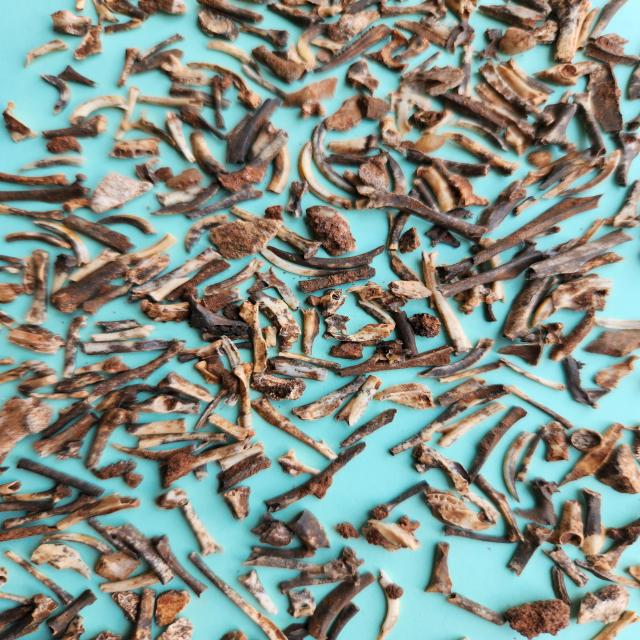fossil: (433, 191, 606, 285), (57, 336, 189, 417), (387, 382, 513, 458), (188, 550, 290, 640), (499, 234, 580, 344), (355, 183, 491, 244), (262, 440, 368, 516), (419, 248, 479, 358), (249, 394, 341, 462), (522, 227, 638, 280), (126, 245, 224, 305), (476, 60, 557, 128), (228, 204, 324, 260), (464, 404, 529, 485), (529, 272, 616, 330), (103, 520, 177, 588), (159, 437, 253, 490), (215, 128, 290, 194), (306, 570, 376, 640), (48, 257, 132, 315), (556, 422, 626, 489), (242, 544, 366, 580), (2, 548, 76, 608), (334, 344, 456, 380), (312, 22, 394, 75), (224, 96, 284, 166), (138, 286, 247, 324), (297, 140, 354, 212), (0, 394, 56, 466), (150, 534, 210, 600), (14, 456, 108, 498), (472, 472, 527, 543), (440, 131, 522, 178), (291, 373, 369, 422), (1, 490, 96, 530), (81, 407, 140, 471), (54, 491, 143, 532), (414, 336, 496, 380), (556, 145, 623, 198), (434, 401, 509, 448), (207, 217, 285, 262), (309, 124, 359, 194), (30, 410, 101, 459), (247, 290, 303, 352), (409, 442, 472, 496), (422, 485, 494, 532), (507, 382, 576, 431), (466, 95, 537, 142), (584, 59, 628, 134), (264, 243, 386, 270), (60, 214, 138, 256), (473, 178, 529, 236), (391, 15, 459, 62), (162, 257, 233, 302), (434, 92, 510, 134), (538, 146, 607, 192), (429, 158, 492, 208), (559, 353, 613, 411), (29, 219, 94, 267), (0, 172, 94, 205), (303, 203, 359, 258), (0, 591, 62, 640), (86, 171, 155, 215), (548, 0, 594, 66), (503, 597, 572, 640), (184, 184, 264, 221), (188, 292, 252, 338), (504, 522, 556, 578), (179, 498, 227, 558), (333, 372, 384, 428), (567, 90, 609, 158), (403, 146, 492, 178), (456, 254, 501, 317), (259, 246, 353, 276), (201, 255, 268, 297), (501, 429, 538, 505), (296, 262, 378, 296), (85, 514, 143, 562), (45, 587, 100, 637), (245, 265, 303, 312), (368, 478, 432, 520), (548, 307, 596, 363), (148, 180, 222, 216), (530, 101, 580, 154), (360, 26, 413, 76), (337, 408, 400, 450), (28, 542, 94, 582), (513, 474, 561, 528), (216, 450, 274, 494), (107, 438, 213, 462), (593, 442, 640, 496), (573, 583, 631, 626), (493, 62, 549, 106), (518, 150, 581, 189), (413, 164, 462, 214), (359, 516, 423, 554), (385, 188, 423, 252), (238, 298, 270, 374), (39, 398, 98, 439), (250, 43, 306, 86), (540, 496, 586, 548), (277, 568, 362, 596), (444, 118, 512, 153), (539, 161, 600, 200), (79, 278, 138, 318), (469, 242, 498, 323), (541, 543, 592, 589), (398, 64, 467, 98), (22, 248, 52, 326), (498, 56, 556, 96), (472, 81, 530, 121), (498, 357, 566, 391), (6, 322, 70, 358), (444, 591, 508, 627), (494, 325, 546, 369), (125, 107, 179, 149), (373, 567, 404, 640), (572, 557, 640, 590), (513, 423, 550, 483), (206, 40, 264, 78), (530, 58, 603, 88), (184, 61, 250, 94), (558, 250, 626, 282), (599, 177, 640, 230), (118, 231, 180, 266), (477, 234, 508, 304), (578, 485, 608, 557), (188, 128, 232, 177), (424, 206, 474, 249), (125, 389, 204, 416), (278, 76, 340, 110), (156, 369, 216, 404), (392, 17, 457, 49), (68, 94, 131, 127), (66, 247, 122, 284), (286, 507, 332, 552), (134, 430, 232, 451), (583, 31, 640, 67), (370, 382, 438, 412), (158, 53, 216, 88), (325, 8, 381, 44), (385, 302, 421, 358), (40, 113, 109, 142), (608, 127, 640, 189), (177, 340, 256, 365), (296, 22, 338, 69), (61, 313, 90, 381), (422, 539, 456, 597), (237, 568, 278, 616), (94, 383, 164, 411), (478, 2, 548, 30), (178, 104, 229, 142), (75, 338, 182, 356), (164, 109, 199, 164), (1, 480, 75, 506), (248, 511, 298, 549), (194, 0, 267, 26), (270, 42, 314, 85), (183, 214, 229, 255), (192, 384, 231, 432), (435, 376, 490, 410), (241, 64, 290, 102), (249, 371, 309, 402), (590, 353, 640, 390), (232, 360, 257, 434), (244, 118, 284, 164), (322, 94, 368, 134), (39, 532, 115, 556), (126, 587, 160, 640), (111, 85, 142, 143), (262, 0, 326, 28), (127, 46, 186, 76), (581, 328, 640, 358), (583, 537, 632, 573), (168, 84, 233, 111), (98, 568, 165, 594), (442, 522, 521, 544), (123, 250, 174, 284), (587, 0, 628, 42), (264, 356, 330, 382), (2, 100, 40, 145), (437, 359, 505, 384), (93, 551, 144, 584), (436, 262, 476, 304), (419, 16, 475, 46), (568, 214, 607, 257), (323, 543, 368, 580), (214, 440, 266, 472), (588, 608, 640, 640), (376, 146, 408, 198), (196, 6, 242, 42), (22, 37, 72, 70), (152, 587, 192, 628), (204, 353, 242, 396), (238, 22, 294, 51), (536, 419, 572, 464), (389, 248, 427, 290), (344, 57, 382, 99), (206, 412, 257, 443), (326, 598, 363, 640), (376, 0, 450, 21), (275, 446, 323, 478), (325, 322, 398, 343), (38, 72, 72, 117), (365, 278, 408, 313), (49, 250, 80, 298), (264, 143, 292, 196), (15, 154, 89, 174), (136, 33, 187, 62), (95, 214, 161, 236), (47, 8, 95, 38), (105, 136, 165, 160), (398, 51, 444, 82), (277, 349, 341, 371), (72, 353, 133, 376), (72, 22, 107, 62), (462, 490, 502, 525), (494, 224, 564, 244), (0, 202, 68, 222), (4, 230, 72, 250), (90, 324, 158, 344), (0, 598, 40, 632), (299, 306, 325, 358), (304, 287, 349, 317), (155, 183, 204, 210), (124, 416, 190, 436), (133, 94, 206, 112), (88, 457, 140, 482), (574, 5, 601, 53), (145, 276, 191, 304), (221, 484, 254, 523), (174, 337, 225, 362), (53, 369, 106, 393), (0, 521, 60, 542), (356, 158, 390, 195), (528, 276, 561, 314), (55, 64, 103, 90), (326, 133, 378, 157), (255, 517, 296, 547), (444, 19, 476, 57), (498, 26, 537, 57), (384, 90, 434, 114), (284, 586, 318, 621), (605, 514, 640, 548), (356, 299, 397, 328), (115, 46, 142, 90), (61, 196, 127, 214), (472, 27, 505, 63), (502, 122, 535, 158), (0, 497, 59, 517), (250, 544, 319, 561), (405, 310, 445, 339), (322, 150, 390, 167), (387, 278, 435, 302), (411, 178, 442, 215), (103, 0, 152, 23), (548, 563, 574, 606), (356, 93, 394, 122), (456, 44, 476, 99), (283, 178, 309, 220), (0, 172, 72, 187), (568, 426, 606, 454), (524, 18, 562, 46), (110, 590, 140, 625), (154, 615, 196, 640), (212, 74, 230, 132), (163, 167, 206, 191), (374, 338, 412, 365), (55, 611, 90, 640), (419, 108, 455, 136), (17, 373, 60, 396), (407, 108, 448, 132), (153, 486, 190, 512), (134, 157, 164, 189), (225, 111, 256, 141), (44, 134, 86, 156), (22, 388, 92, 401), (619, 420, 640, 463), (321, 312, 351, 342), (376, 116, 404, 148), (103, 15, 145, 36), (20, 357, 60, 379), (89, 0, 121, 27), (219, 334, 243, 370), (208, 6, 249, 27), (394, 99, 416, 138), (591, 315, 640, 332), (536, 321, 568, 347), (53, 438, 86, 463), (308, 36, 347, 57), (444, 0, 478, 24), (398, 225, 423, 257), (412, 132, 448, 154), (92, 318, 144, 333), (328, 341, 367, 361), (21, 253, 39, 296), (194, 358, 222, 385), (511, 0, 555, 17), (344, 284, 385, 302), (512, 193, 541, 218), (625, 57, 640, 104), (0, 278, 27, 304), (341, 0, 390, 14), (0, 364, 31, 386), (202, 331, 254, 344), (525, 150, 555, 172), (154, 0, 190, 18), (283, 621, 317, 640), (331, 520, 363, 540), (299, 99, 328, 121), (0, 590, 37, 607), (236, 88, 262, 111), (222, 302, 248, 324), (394, 513, 422, 533), (382, 140, 416, 156), (341, 168, 366, 189), (263, 203, 286, 225), (221, 383, 241, 408), (260, 324, 280, 349), (311, 4, 342, 20), (384, 580, 406, 602), (0, 478, 23, 499), (122, 470, 146, 490), (85, 629, 127, 640), (135, 0, 162, 17), (0, 307, 20, 329), (353, 195, 377, 213), (151, 166, 176, 182), (179, 285, 201, 303), (220, 627, 250, 640), (352, 336, 384, 348), (315, 46, 335, 65), (0, 262, 26, 276), (193, 462, 211, 482), (623, 111, 640, 132), (0, 253, 25, 266), (0, 564, 11, 589), (625, 564, 640, 582), (558, 88, 573, 106), (335, 0, 355, 13), (278, 0, 310, 8), (220, 75, 233, 91), (0, 356, 18, 367), (0, 464, 14, 478), (304, 0, 332, 7), (72, 0, 88, 12), (330, 0, 338, 9)
